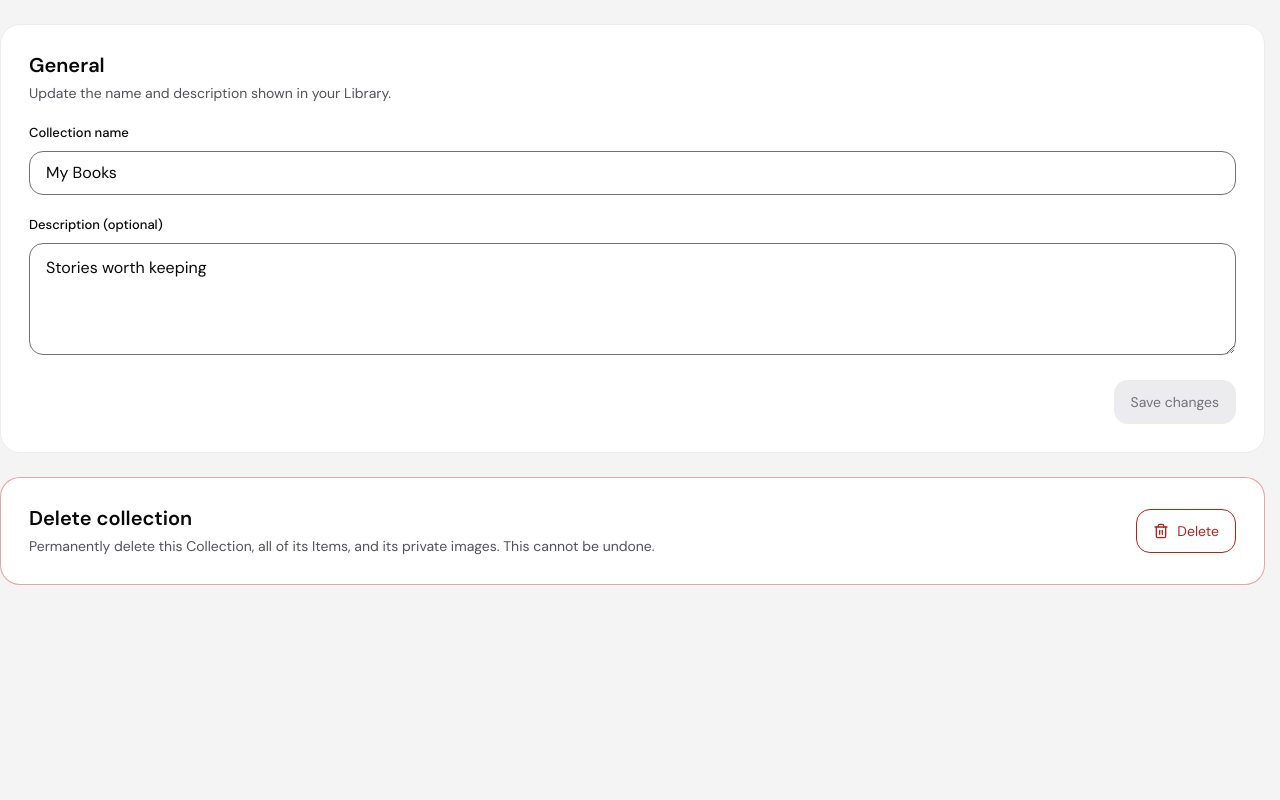
Test: Collection settings › does not require typed confirmation for an empty Collection
The image size is (1280, 800).
Click the button with aria-label "Delete collection" at (1186, 531), box [1136,509,1236,553]
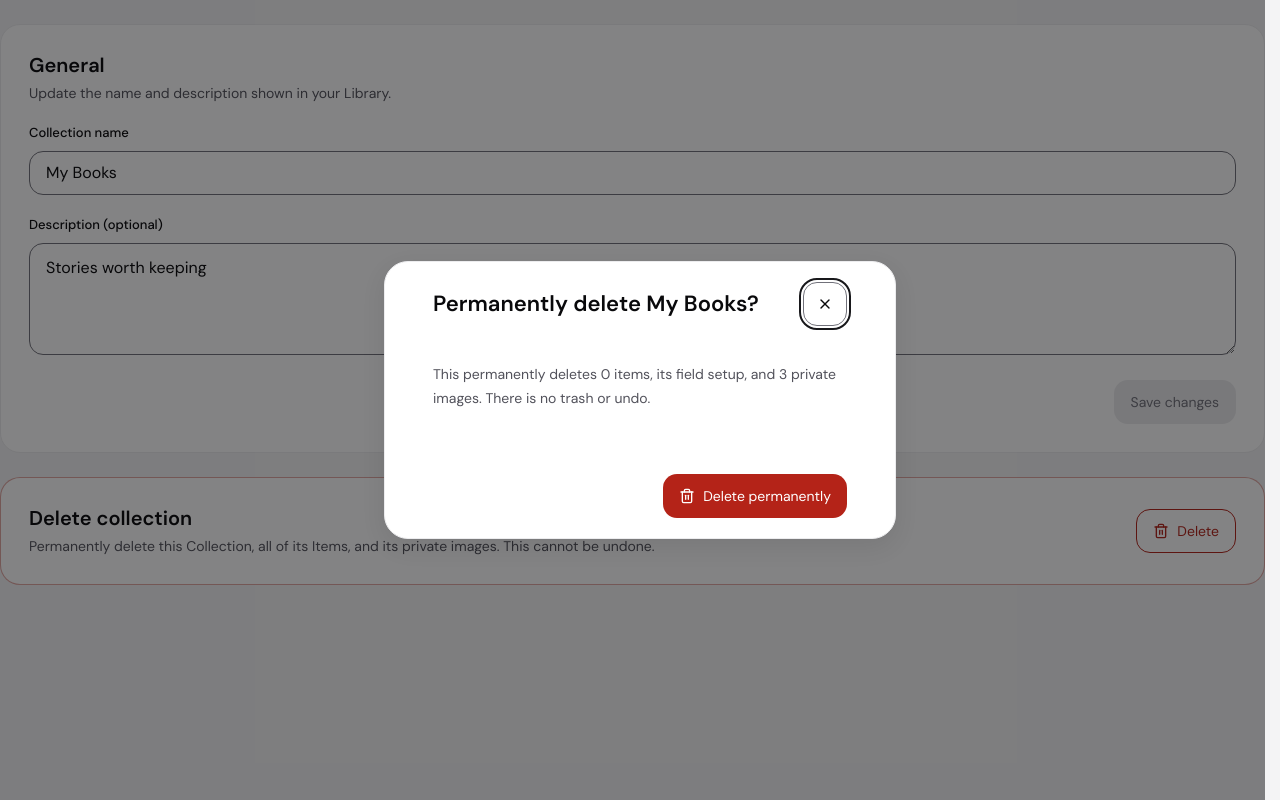
expect the button "Delete permanently" is enabled: met, box [663,474,847,518]
